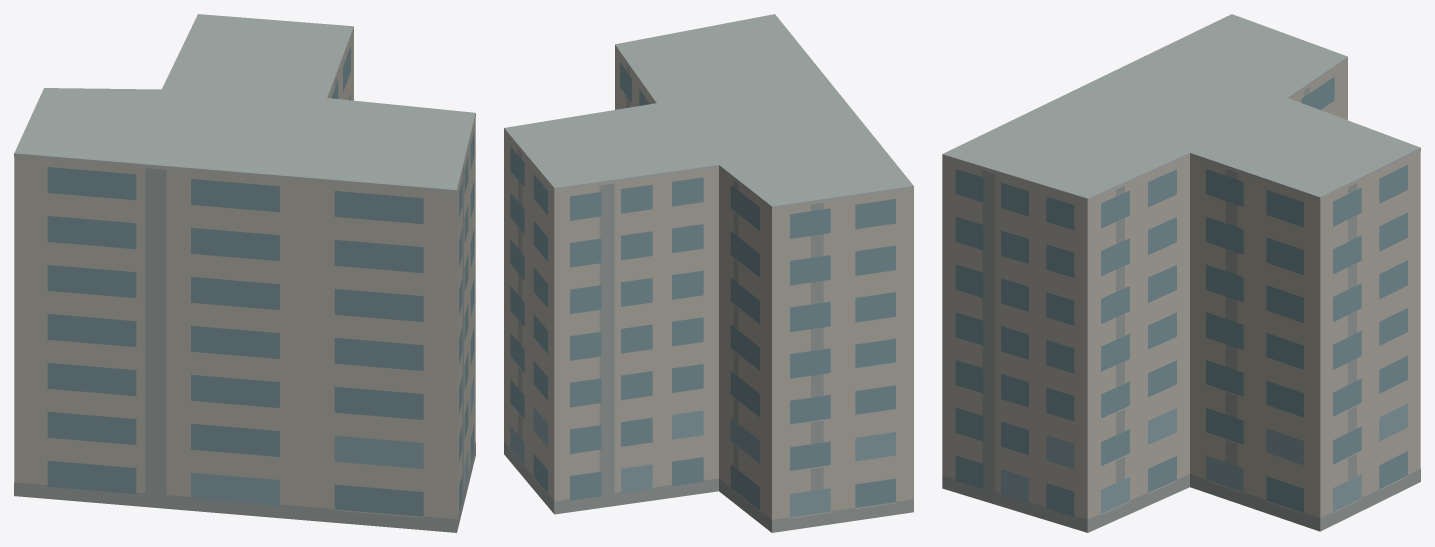
File: residential-7bd6570f-8519-4537-8698-a87f42bd1136.glb
The picture shows the model from 3 angles, left to right: view 1: azimuth 30°, elevation 25°; view 2: azimuth 150°, elevation 25°; view 3: azimuth 270°, elevation 25°; orthographic projection. The views are drawn at different scales.
Parts seen in each view (by area): view 1: residential-7bd6570f-8519-4537-8698-a87f42bd1136.tmp; view 2: residential-7bd6570f-8519-4537-8698-a87f42bd1136.tmp; view 3: residential-7bd6570f-8519-4537-8698-a87f42bd1136.tmp.
Boxes of the visible parts, x1,y1,x2,y2 form: residential-7bd6570f-8519-4537-8698-a87f42bd1136.tmp: (14, 14, 475, 532); residential-7bd6570f-8519-4537-8698-a87f42bd1136.tmp: (504, 14, 913, 532); residential-7bd6570f-8519-4537-8698-a87f42bd1136.tmp: (942, 14, 1420, 532).
Bounding box in the file's own units: 25.29 × 21.35 × 27.71.
